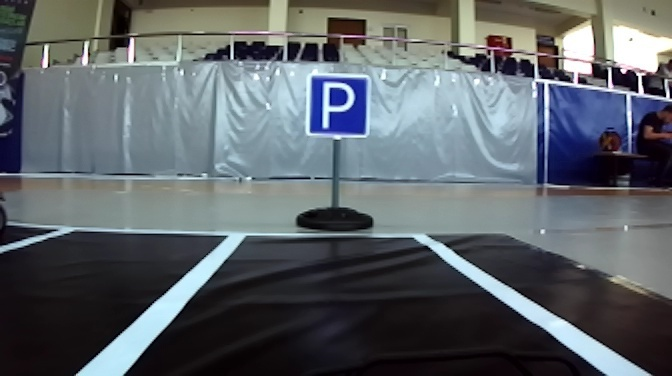park: (306, 71, 369, 141)
